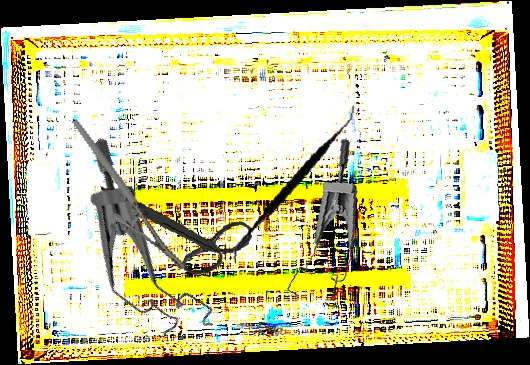Iris Scissors: (100, 167, 256, 287)
Needle Holder: (71, 101, 188, 288)
Spatula Surgical: (231, 91, 358, 278)
Speculum: (26, 134, 264, 357), (269, 137, 372, 315)
